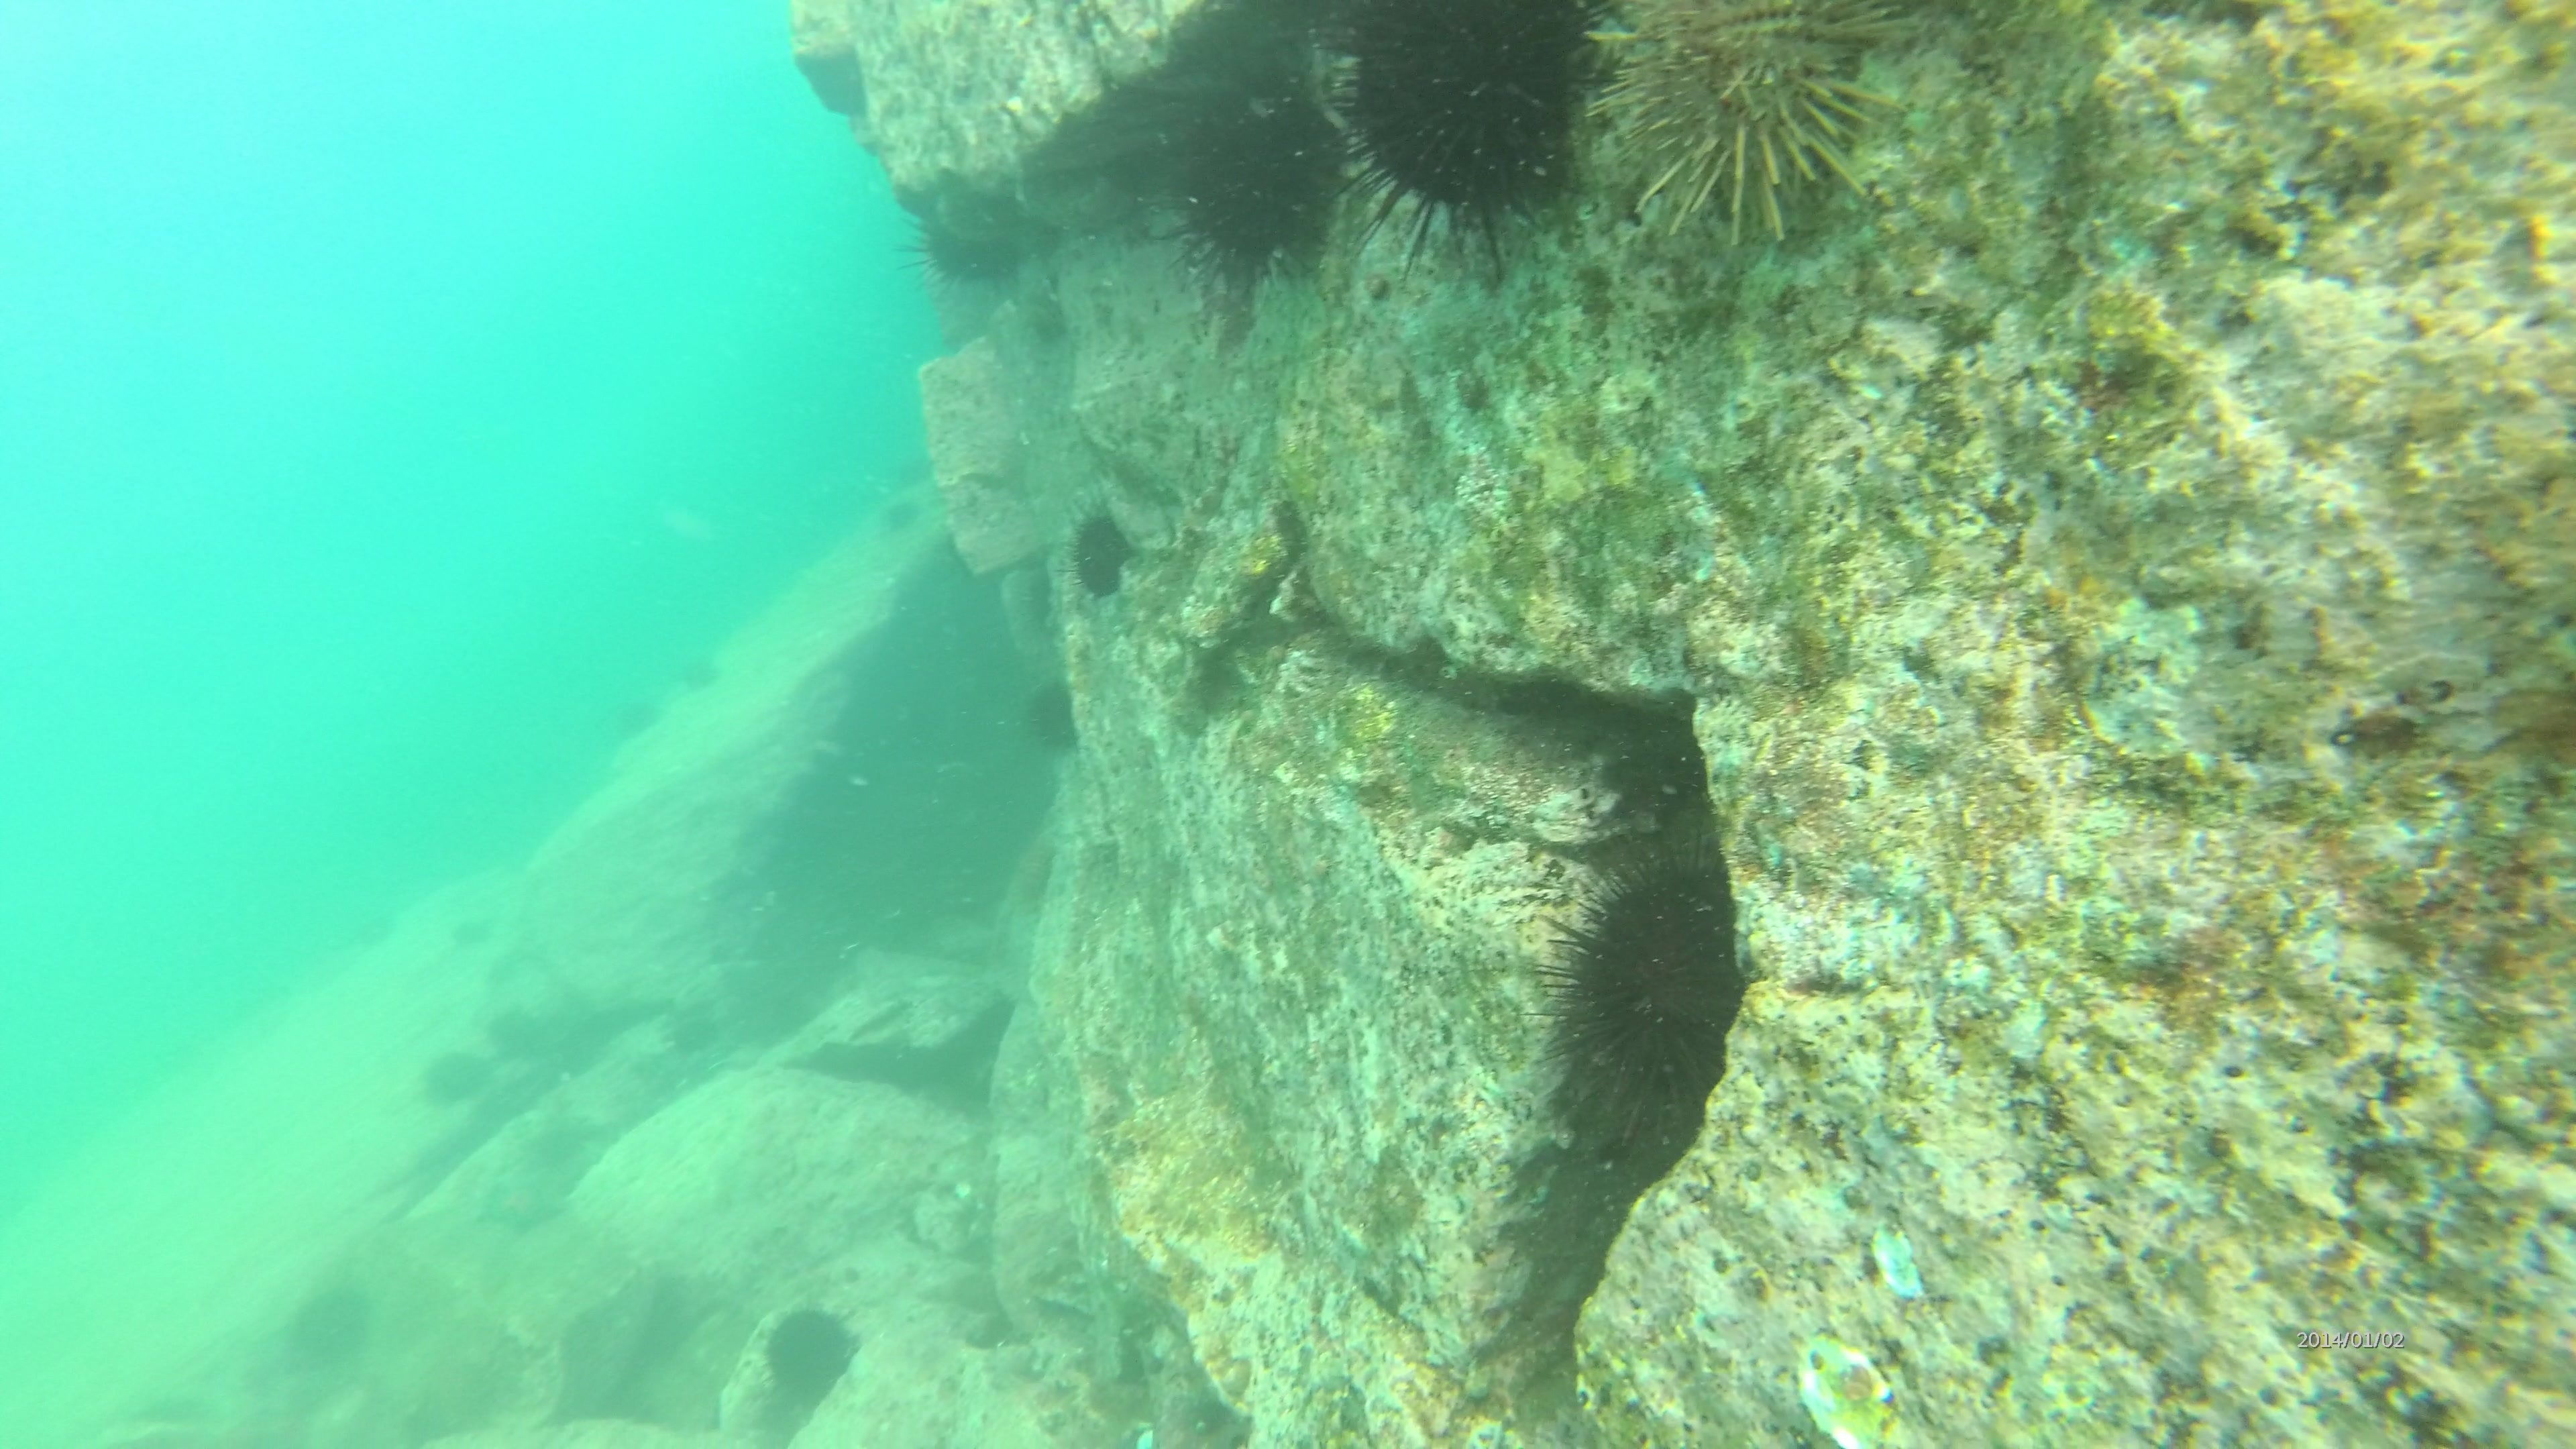echinus: (1523, 832, 1789, 1136), (1601, 0, 1916, 248), (1330, 4, 1594, 281), (1143, 58, 1343, 290), (899, 203, 1030, 299), (759, 1307, 862, 1392), (1060, 499, 1134, 600), (287, 1281, 373, 1353), (1028, 685, 1095, 761), (594, 686, 671, 748), (849, 485, 925, 547), (437, 906, 511, 968), (649, 648, 724, 709), (878, 430, 952, 492), (662, 1001, 736, 1063), (474, 1005, 550, 1065), (331, 897, 407, 957), (423, 1046, 488, 1102)
